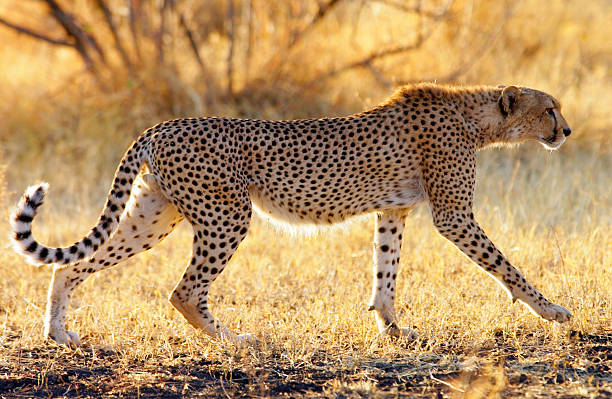cheetah: (486, 78, 577, 165)
